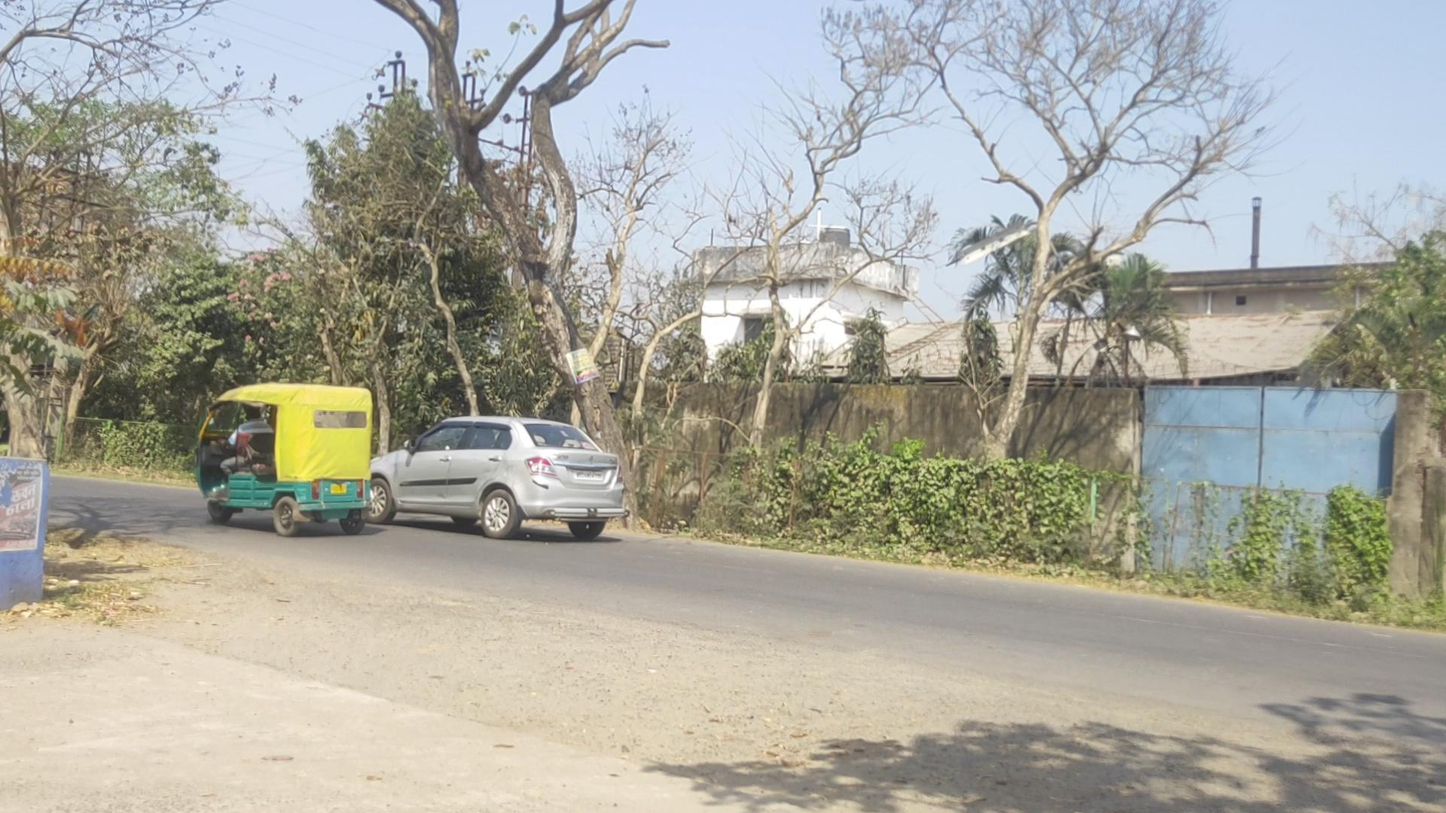Auto: (194, 383, 373, 537)
car: (367, 414, 630, 539)
